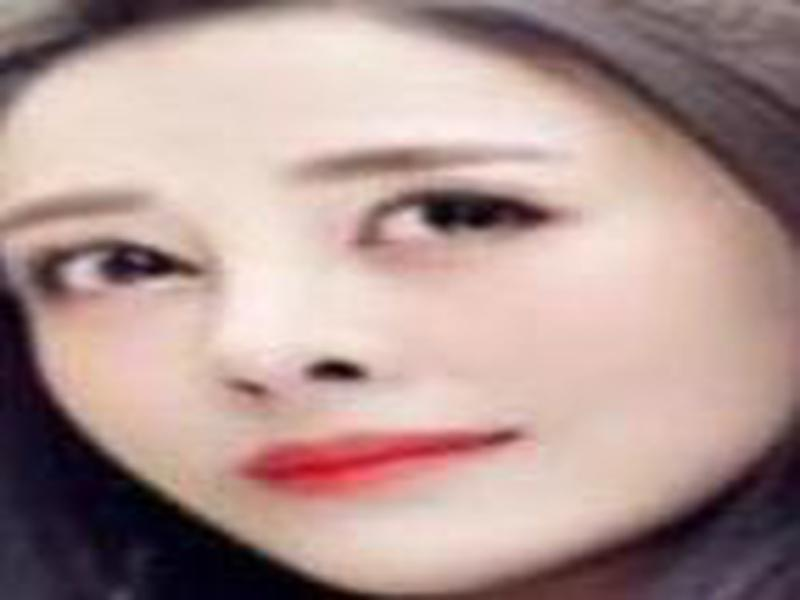without_mask: (6, 41, 735, 585)
